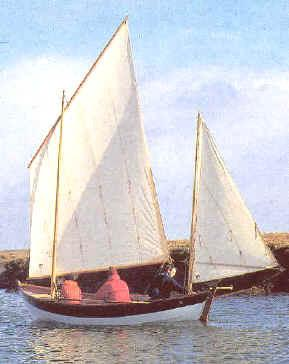Ship: (18, 17, 285, 322)
